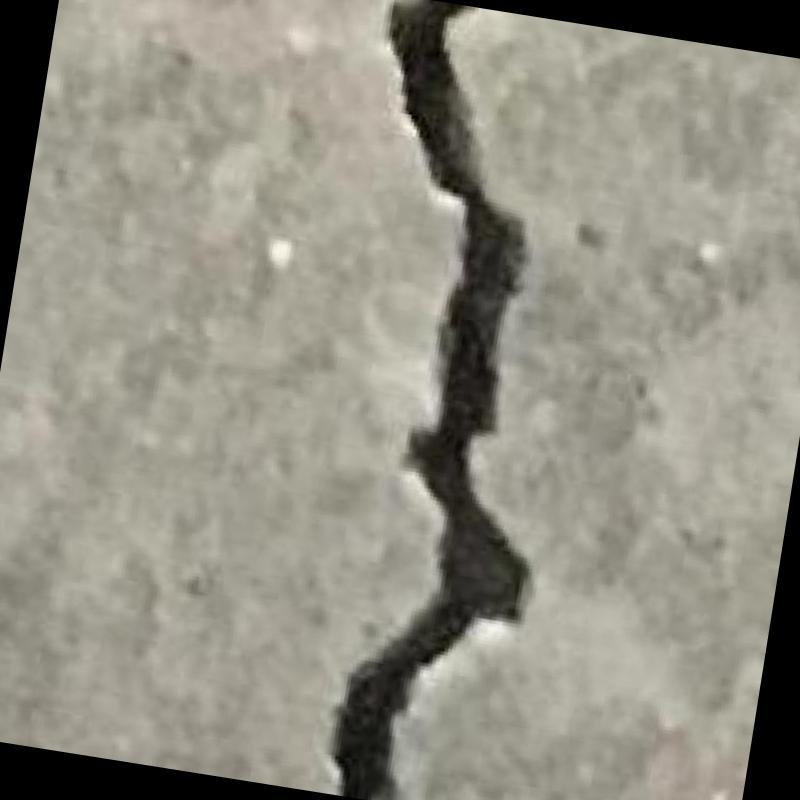pothole: (332, 0, 529, 800)
